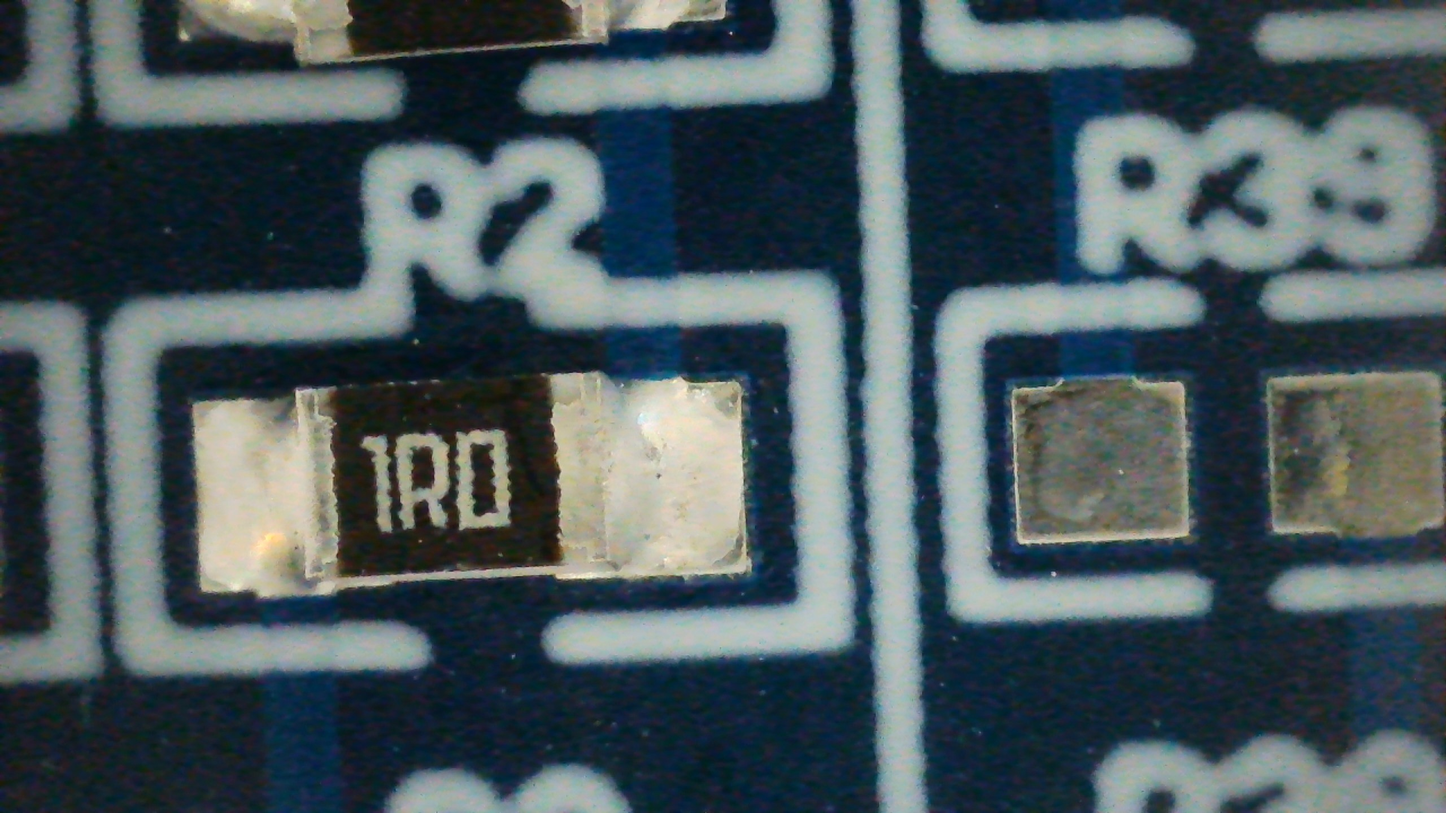OK: (192, 373, 749, 600)
